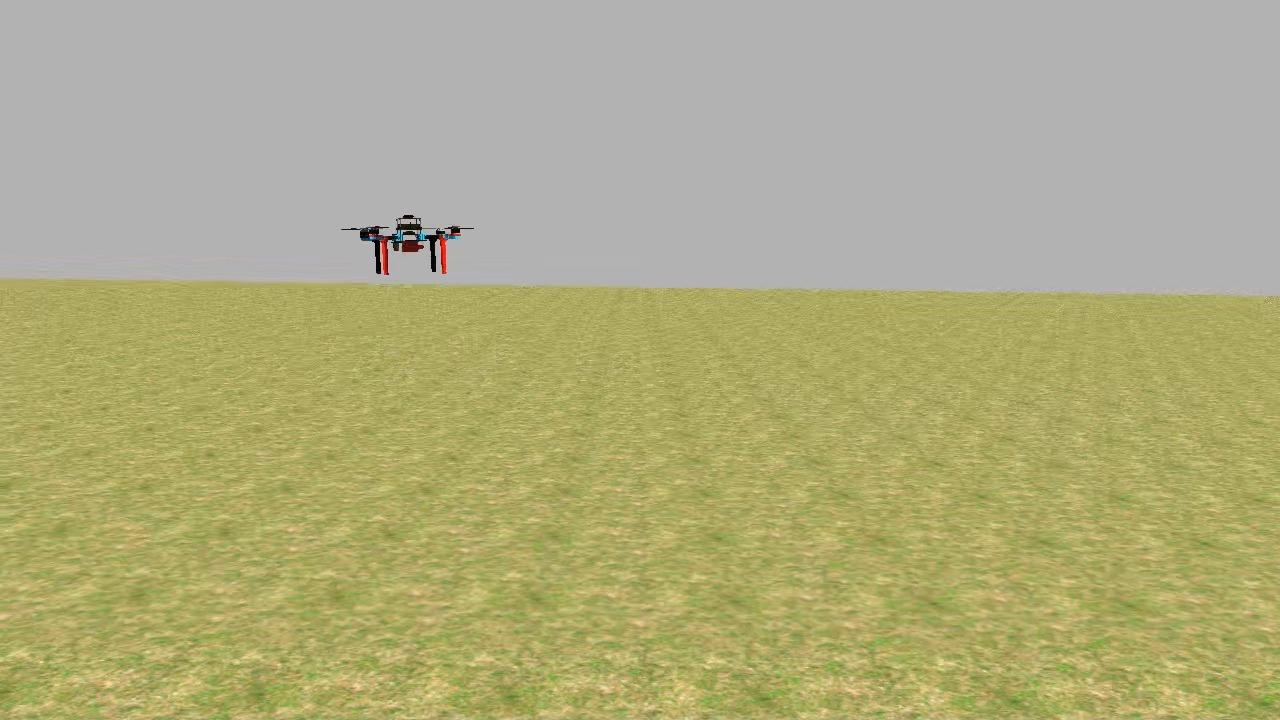UAV: (354, 210, 470, 280)
